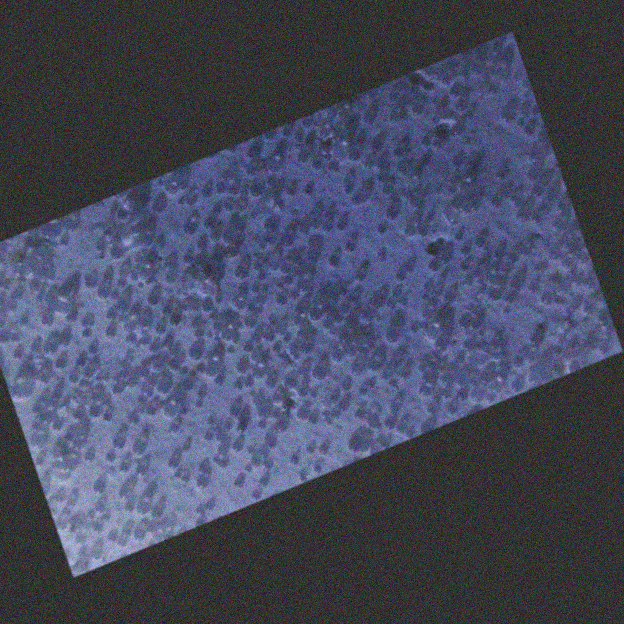GrassBeadSeg: (516, 5, 538, 32), (404, 351, 423, 379), (288, 582, 306, 610), (205, 75, 223, 102), (198, 166, 218, 190), (416, 314, 434, 340), (100, 423, 117, 448), (232, 370, 249, 395), (461, 396, 478, 420), (428, 88, 444, 112), (162, 547, 177, 572), (151, 586, 168, 608), (460, 352, 476, 375), (261, 456, 277, 479), (301, 80, 317, 103), (560, 205, 576, 228), (45, 311, 60, 335), (288, 188, 304, 210), (274, 52, 290, 74), (216, 425, 231, 448), (370, 466, 385, 489), (251, 369, 266, 392), (244, 462, 260, 483), (344, 212, 360, 233), (170, 475, 186, 496), (538, 38, 554, 59), (140, 452, 155, 474), (301, 435, 316, 457), (345, 142, 360, 164), (176, 448, 190, 471), (357, 502, 372, 523), (381, 101, 396, 122), (90, 597, 105, 618), (131, 585, 146, 606), (369, 51, 384, 72), (380, 307, 395, 328), (192, 90, 206, 112), (499, 10, 513, 32), (326, 337, 340, 359), (474, 225, 488, 247), (202, 46, 216, 68), (475, 185, 489, 207), (490, 148, 504, 170), (119, 10, 135, 29), (163, 259, 178, 279), (554, 157, 569, 177), (536, 588, 551, 608), (218, 358, 233, 378), (299, 153, 314, 173), (525, 543, 538, 566), (507, 440, 521, 461), (3, 474, 17, 495), (525, 417, 539, 438), (301, 44, 315, 65), (450, 387, 464, 408), (279, 420, 292, 442), (174, 218, 189, 237), (362, 395, 377, 414), (347, 170, 362, 189), (86, 444, 101, 463), (416, 173, 431, 192), (287, 277, 302, 296), (146, 218, 161, 237), (365, 173, 380, 192), (456, 543, 470, 563), (75, 534, 89, 554), (545, 204, 559, 224), (174, 414, 188, 434), (359, 108, 373, 128), (498, 124, 512, 144), (50, 470, 64, 490), (263, 394, 277, 414), (378, 374, 391, 395), (460, 228, 473, 249), (72, 53, 85, 74), (115, 57, 128, 78), (139, 56, 152, 77), (166, 39, 179, 60), (353, 304, 367, 323), (151, 336, 165, 355), (147, 402, 161, 421), (249, 575, 263, 594), (442, 197, 456, 216), (255, 181, 269, 200), (262, 318, 276, 337), (353, 336, 367, 355), (335, 434, 349, 453), (561, 480, 574, 500), (168, 92, 181, 112), (28, 133, 41, 153), (138, 331, 151, 351), (537, 506, 550, 526), (189, 13, 202, 33), (82, 120, 95, 140), (70, 82, 83, 102), (286, 334, 299, 354), (354, 421, 367, 441), (400, 445, 413, 465), (148, 120, 162, 138), (138, 564, 152, 582), (133, 21, 147, 39), (588, 592, 602, 610), (172, 9, 184, 30), (540, 346, 552, 367), (585, 419, 597, 440), (218, 98, 231, 117), (307, 387, 320, 406), (111, 599, 124, 618), (106, 131, 119, 150), (178, 539, 191, 558), (336, 273, 349, 292), (270, 236, 283, 255), (263, 423, 276, 442), (189, 330, 201, 350), (358, 265, 370, 285), (374, 19, 386, 39), (386, 20, 398, 40), (407, 44, 419, 64), (418, 18, 430, 38), (334, 496, 346, 516), (229, 246, 243, 263), (358, 133, 372, 150), (178, 324, 192, 341), (169, 578, 183, 595), (515, 190, 529, 207), (240, 591, 253, 609), (530, 170, 543, 188), (315, 289, 328, 307), (433, 226, 446, 244), (184, 595, 197, 613), (118, 514, 131, 532), (604, 157, 617, 175), (590, 324, 601, 345), (609, 357, 620, 378), (250, 258, 262, 277), (497, 223, 509, 242), (13, 517, 25, 536), (21, 54, 33, 73), (269, 183, 281, 202), (568, 391, 580, 410), (442, 145, 454, 164), (42, 31, 54, 50), (464, 91, 476, 110), (538, 83, 550, 102), (596, 95, 608, 114), (307, 177, 319, 196), (46, 608, 61, 623), (269, 0, 283, 16), (94, 223, 107, 240), (513, 481, 526, 498), (225, 478, 238, 495), (12, 598, 25, 615), (145, 498, 158, 515), (230, 303, 242, 321), (386, 537, 398, 555), (174, 151, 186, 169), (203, 581, 215, 599), (599, 5, 611, 23), (503, 593, 515, 611), (605, 128, 616, 147), (210, 406, 223, 422), (121, 534, 134, 550), (478, 249, 490, 266), (191, 238, 203, 255), (410, 508, 422, 525), (421, 571, 433, 588), (514, 565, 526, 582), (540, 437, 552, 454), (577, 549, 589, 566), (376, 140, 388, 157), (277, 538, 289, 555), (172, 174, 184, 191), (102, 560, 114, 577), (406, 382, 418, 399), (231, 204, 243, 221), (244, 337, 256, 354), (598, 557, 610, 574), (509, 327, 521, 344), (483, 387, 495, 404), (385, 560, 397, 577), (369, 203, 381, 220), (425, 506, 437, 523), (493, 323, 505, 340), (375, 527, 387, 544), (594, 49, 606, 66), (60, 569, 72, 586), (490, 195, 501, 213), (200, 356, 211, 374), (424, 480, 435, 498), (151, 273, 164, 288), (239, 177, 252, 192), (358, 570, 370, 586), (388, 405, 400, 421), (291, 514, 303, 530), (325, 102, 337, 118), (160, 383, 172, 399), (190, 506, 202, 522), (307, 362, 319, 378), (25, 583, 37, 599), (530, 464, 541, 481), (397, 587, 408, 604), (377, 407, 388, 424), (561, 421, 572, 438), (428, 392, 439, 409), (183, 117, 194, 134), (160, 514, 171, 531), (246, 61, 257, 78), (286, 80, 297, 97), (269, 110, 280, 127), (480, 491, 491, 508), (52, 584, 63, 601), (219, 503, 231, 518), (56, 228, 66, 246), (451, 523, 463, 538), (612, 396, 624, 411), (586, 114, 598, 129), (198, 523, 210, 538), (332, 138, 344, 153), (71, 272, 81, 290), (25, 253, 35, 271), (26, 283, 36, 301), (31, 402, 41, 420), (4, 428, 14, 446), (17, 461, 27, 479), (33, 468, 43, 486), (63, 445, 73, 463), (325, 573, 336, 589), (539, 536, 550, 552), (575, 375, 586, 391), (119, 120, 130, 136), (245, 198, 256, 214), (513, 38, 524, 54), (504, 391, 515, 407), (521, 209, 532, 225), (365, 347, 376, 363), (196, 377, 207, 393), (301, 522, 312, 538), (534, 325, 545, 341), (158, 0, 169, 16), (338, 56, 349, 72), (353, 52, 364, 68), (374, 0, 385, 16), (89, 560, 100, 576), (25, 319, 35, 336), (6, 329, 16, 346), (18, 351, 28, 368), (20, 426, 30, 443), (73, 379, 83, 396), (80, 426, 90, 443), (100, 329, 110, 346), (92, 263, 102, 280), (595, 486, 605, 503), (216, 610, 229, 623), (558, 343, 569, 358), (119, 555, 130, 570), (462, 475, 473, 490), (410, 269, 421, 284), (36, 328, 45, 346), (15, 390, 24, 408), (410, 289, 420, 305), (459, 590, 469, 606), (339, 603, 349, 619), (202, 5, 212, 21), (216, 34, 226, 50), (235, 83, 245, 99), (326, 39, 336, 55), (446, 33, 456, 49), (444, 120, 454, 136), (417, 149, 427, 165), (536, 151, 546, 167), (558, 92, 568, 108), (580, 260, 590, 276), (559, 244, 569, 260), (574, 294, 584, 310), (542, 292, 552, 308), (535, 280, 545, 296), (522, 241, 532, 257), (604, 332, 614, 348), (603, 500, 613, 516), (606, 472, 616, 488), (612, 518, 622, 534), (566, 536, 576, 552), (445, 327, 455, 343), (307, 340, 317, 356), (274, 340, 284, 356), (321, 428, 331, 444), (327, 514, 337, 530), (207, 543, 217, 559), (210, 373, 220, 389), (398, 546, 408, 562), (257, 349, 267, 365), (430, 529, 441, 543), (594, 169, 605, 183), (470, 590, 479, 607), (50, 279, 59, 296), (86, 363, 95, 380), (409, 604, 419, 619), (313, 263, 323, 278), (197, 566, 207, 581), (186, 564, 196, 579), (422, 350, 432, 365), (473, 527, 483, 542), (464, 132, 474, 147), (396, 153, 406, 168), (598, 198, 608, 213), (598, 305, 608, 320), (500, 305, 510, 320), (583, 348, 593, 363), (569, 518, 579, 533), (567, 577, 577, 592), (479, 319, 489, 334), (430, 250, 440, 265), (394, 249, 404, 264), (282, 316, 292, 331), (268, 360, 278, 375), (298, 494, 308, 509), (401, 480, 411, 495), (531, 367, 540, 383), (482, 128, 491, 144), (479, 72, 488, 88), (552, 278, 561, 294), (539, 255, 548, 271), (599, 435, 608, 451), (552, 576, 561, 592), (448, 254, 457, 270), (390, 287, 399, 303), (461, 282, 470, 298), (440, 370, 449, 386), (362, 365, 371, 381), (268, 502, 277, 518), (257, 494, 266, 510), (185, 433, 194, 449), (253, 316, 262, 332), (356, 453, 365, 469), (240, 492, 249, 508), (236, 508, 245, 524), (302, 318, 311, 334), (303, 238, 312, 254), (313, 226, 322, 242), (254, 434, 263, 450), (143, 604, 154, 617), (436, 471, 446, 485), (328, 236, 338, 250), (481, 166, 491, 180), (421, 111, 430, 126), (455, 146, 464, 161), (385, 168, 394, 183), (579, 198, 588, 213), (588, 293, 597, 308), (474, 337, 483, 352), (463, 316, 472, 331), (350, 283, 359, 298), (303, 290, 312, 305), (165, 450, 174, 465), (196, 431, 205, 446), (284, 482, 293, 497), (280, 363, 289, 378), (559, 593, 569, 606), (470, 151, 480, 164), (416, 235, 426, 248), (380, 489, 389, 503), (429, 448, 438, 462), (362, 481, 371, 495), (8, 75, 17, 89), (142, 253, 151, 267), (384, 340, 394, 352), (525, 343, 535, 355), (313, 530, 321, 545), (341, 566, 349, 581), (391, 270, 400, 283), (408, 555, 417, 568), (168, 371, 177, 384), (399, 528, 408, 541), (68, 107, 76, 121), (36, 81, 44, 95), (12, 142, 20, 156), (15, 175, 23, 189), (18, 227, 26, 241), (59, 267, 67, 281), (125, 363, 133, 377), (119, 335, 127, 349), (120, 307, 128, 321), (120, 275, 128, 289), (111, 223, 119, 237), (97, 180, 105, 194), (125, 42, 133, 56), (233, 6, 241, 20), (318, 79, 326, 93), (426, 466, 434, 480), (454, 411, 462, 425), (436, 409, 444, 423), (443, 305, 451, 319), (469, 432, 477, 446), (497, 379, 505, 393), (416, 468, 424, 482), (326, 359, 334, 373), (339, 369, 347, 383), (290, 302, 298, 316), (292, 257, 300, 271), (340, 253, 348, 267), (330, 218, 338, 232), (322, 446, 330, 460), (203, 282, 211, 296), (289, 235, 297, 249), (314, 514, 321, 529), (20, 157, 28, 170), (1, 148, 9, 161), (223, 77, 231, 90), (245, 25, 253, 38), (256, 9, 264, 22), (254, 124, 262, 137), (292, 21, 300, 34), (492, 363, 500, 376), (482, 357, 490, 370), (526, 590, 534, 603), (342, 346, 350, 359), (304, 263, 312, 276), (203, 505, 211, 518), (328, 464, 336, 477), (246, 561, 254, 574), (131, 488, 140, 499), (142, 538, 151, 549), (328, 71, 335, 85), (351, 92, 358, 106), (401, 300, 409, 312), (270, 569, 278, 581), (237, 610, 245, 622), (319, 474, 326, 487), (380, 249, 389, 259), (98, 467, 106, 478), (264, 612, 272, 623), (70, 602, 78, 613), (83, 610, 91, 621), (54, 416, 61, 428), (300, 21, 307, 33), (399, 6, 406, 18), (469, 56, 476, 68), (489, 286, 496, 298), (467, 251, 474, 263), (174, 387, 182, 397), (48, 420, 55, 431), (453, 167, 460, 178), (571, 59, 578, 70), (510, 309, 517, 320), (482, 516, 489, 527), (464, 336, 471, 347), (55, 558, 62, 569), (105, 403, 111, 415), (128, 392, 134, 404), (105, 268, 111, 280), (385, 53, 391, 65), (558, 68, 564, 80), (131, 450, 137, 462), (47, 534, 53, 546), (8, 551, 14, 563), (37, 513, 43, 525), (439, 518, 446, 528), (62, 381, 68, 392), (115, 389, 121, 400), (108, 259, 114, 270), (144, 280, 150, 291), (482, 91, 488, 102), (526, 37, 532, 48), (538, 64, 544, 75), (570, 77, 576, 88), (586, 27, 592, 38), (579, 102, 585, 113), (583, 148, 589, 159), (589, 215, 595, 226), (528, 298, 534, 309), (521, 301, 527, 312), (499, 293, 505, 304), (470, 266, 476, 277), (485, 211, 491, 222), (145, 481, 151, 492), (157, 566, 163, 577), (185, 518, 191, 529), (8, 579, 14, 590), (31, 509, 37, 520), (67, 492, 73, 503), (246, 432, 252, 443), (247, 410, 253, 421), (336, 328, 342, 337), (329, 198, 335, 207), (320, 190, 326, 199), (322, 217, 328, 226), (355, 247, 361, 256), (217, 154, 223, 163), (176, 135, 182, 144), (157, 193, 163, 202), (7, 117, 12, 126), (3, 103, 8, 112), (50, 80, 55, 89), (42, 57, 47, 66), (29, 32, 34, 41), (43, 7, 48, 16), (99, 88, 104, 97), (106, 95, 111, 104), (117, 45, 122, 54), (158, 154, 163, 163), (110, 210, 115, 219), (117, 401, 122, 409), (339, 102, 344, 110), (517, 506, 522, 514), (162, 200, 167, 208), (149, 203, 154, 211), (150, 187, 155, 195), (175, 197, 180, 205), (156, 160, 160, 169), (310, 509, 315, 516), (22, 449, 26, 457), (50, 460, 54, 468), (42, 433, 46, 441), (25, 376, 29, 384), (447, 169, 451, 177), (420, 209, 424, 217), (413, 206, 417, 214), (396, 304, 400, 312), (380, 331, 384, 339), (369, 311, 373, 319), (381, 431, 385, 439), (325, 402, 329, 410), (126, 432, 130, 440), (154, 523, 158, 531), (45, 453, 49, 460), (85, 404, 89, 411), (89, 402, 93, 409), (443, 73, 447, 80), (469, 79, 473, 86), (469, 46, 473, 53), (599, 33, 603, 40), (567, 46, 571, 53), (478, 269, 482, 276), (397, 314, 401, 321), (380, 286, 384, 293), (345, 297, 349, 304), (442, 349, 446, 356), (359, 410, 363, 417), (330, 408, 334, 415), (334, 395, 338, 402), (136, 439, 140, 446), (389, 186, 393, 192), (303, 138, 307, 144), (260, 170, 264, 176), (556, 115, 560, 120), (577, 226, 581, 231), (589, 258, 593, 263), (317, 136, 320, 142), (440, 174, 443, 180), (590, 81, 593, 87), (309, 134, 312, 140), (584, 77, 587, 82), (561, 122, 564, 127), (583, 222, 586, 227), (561, 318, 564, 323), (550, 324, 553, 329), (546, 317, 549, 322), (559, 326, 562, 331), (550, 335, 553, 340), (592, 555, 595, 560), (594, 547, 597, 552), (606, 543, 609, 548), (504, 583, 507, 588), (481, 543, 484, 548), (491, 521, 494, 526), (477, 441, 480, 446), (602, 541, 604, 546), (608, 609, 610, 614), (588, 615, 590, 620), (528, 616, 530, 621), (621, 0, 624, 2)
